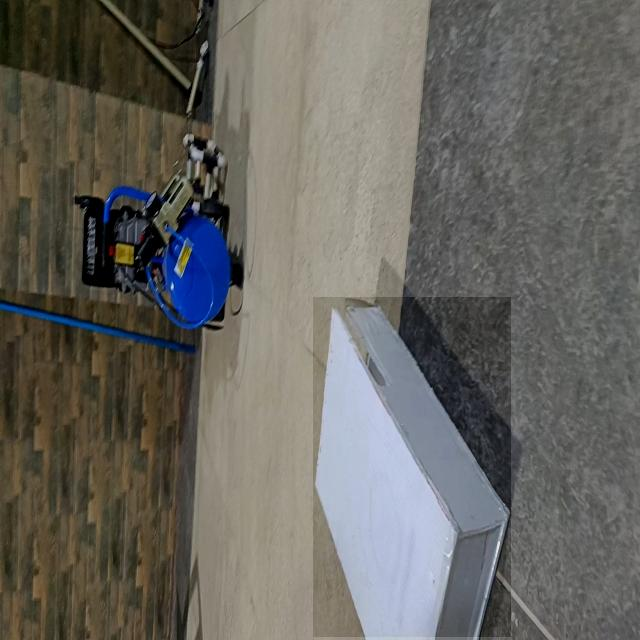Cuboid: (313, 298, 511, 638)
